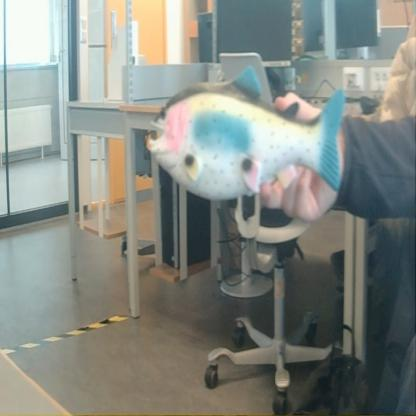rubberfish: (144, 62, 354, 211)
